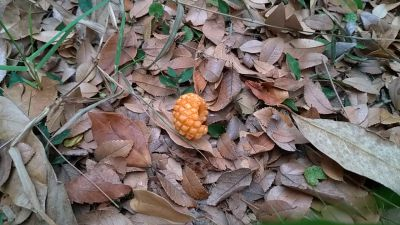eggs: (168, 91, 214, 139)
